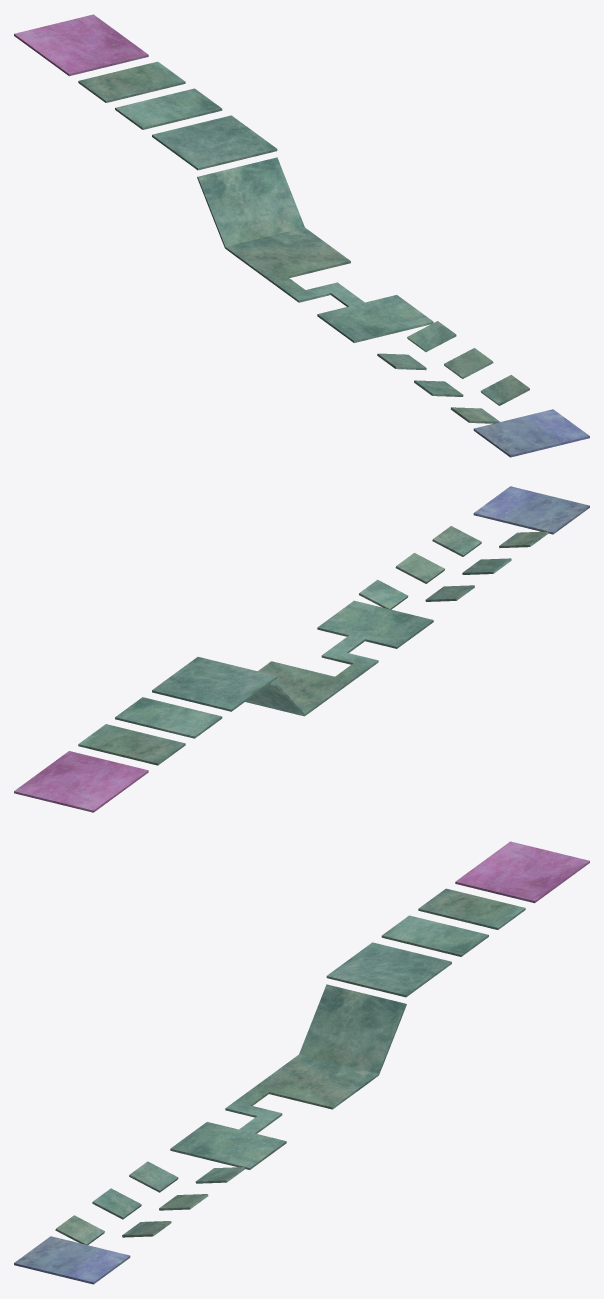
The model's file is level9.dae.
3 renders of one model, top to bottom at view 1: azimuth 30°, elevation 25°; view 2: azimuth 150°, elevation 25°; view 3: azimuth 330°, elevation 25°, orthographic.
Visible parts, largest first — view 1: Plane; view 2: Plane; view 3: Plane.
Part boxes in pixels (box(x1,y1,x2,y2)): Plane: box(14, 14, 589, 457); Plane: box(14, 486, 589, 812); Plane: box(14, 841, 589, 1284).
Size of what is drawn, in the model's own units: 10 by 108 by 7.76.
Materials: 3 (3 with a texture image).
